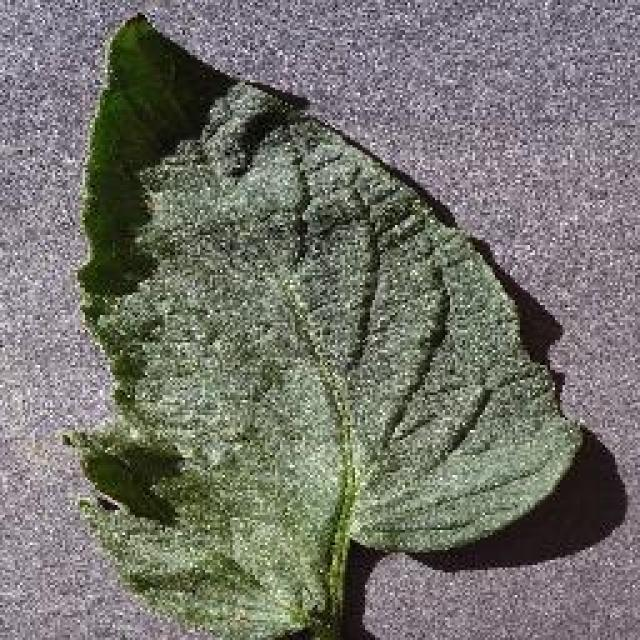Tomato healthy leaf: (74, 14, 586, 628)
